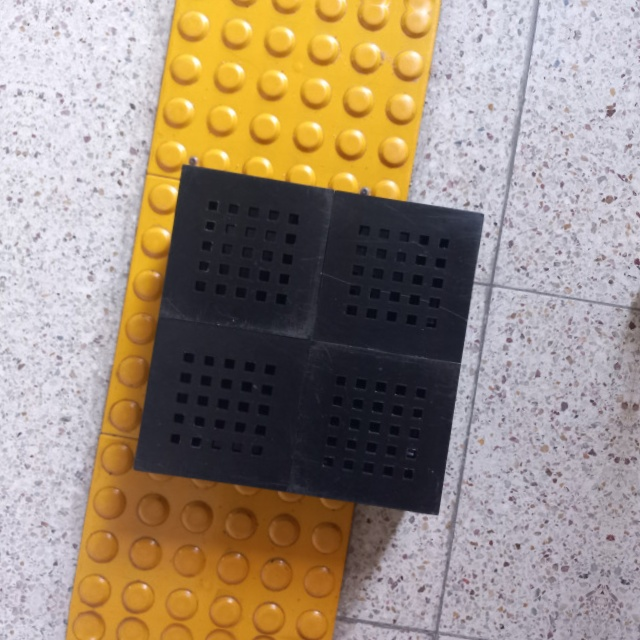pallet: (124, 153, 496, 523)
